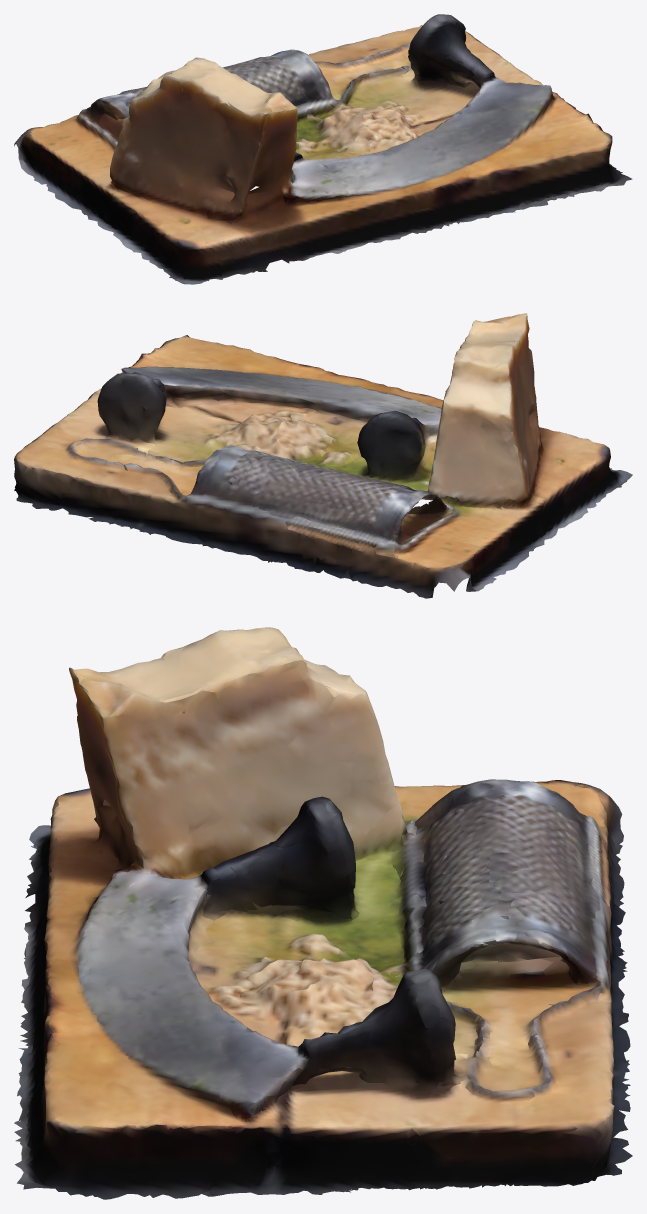
Rendered from set-pesto.fbx.
3 renders of one model, top to bottom at view 1: azimuth 30°, elevation 25°; view 2: azimuth 150°, elevation 25°; view 3: azimuth 270°, elevation 25°, orthographic. The views are drawn at different scales.
Parts seen in each view (by area): view 1: Polygon_Reduction; view 2: Polygon_Reduction; view 3: Polygon_Reduction.
Part boxes in pixels (bbox=[...]): Polygon_Reduction: bbox=[14, 14, 632, 284]; Polygon_Reduction: bbox=[14, 313, 632, 598]; Polygon_Reduction: bbox=[14, 627, 632, 1199].
Bounding box in the file's own units: 37.9 × 12.18 × 26.63.
